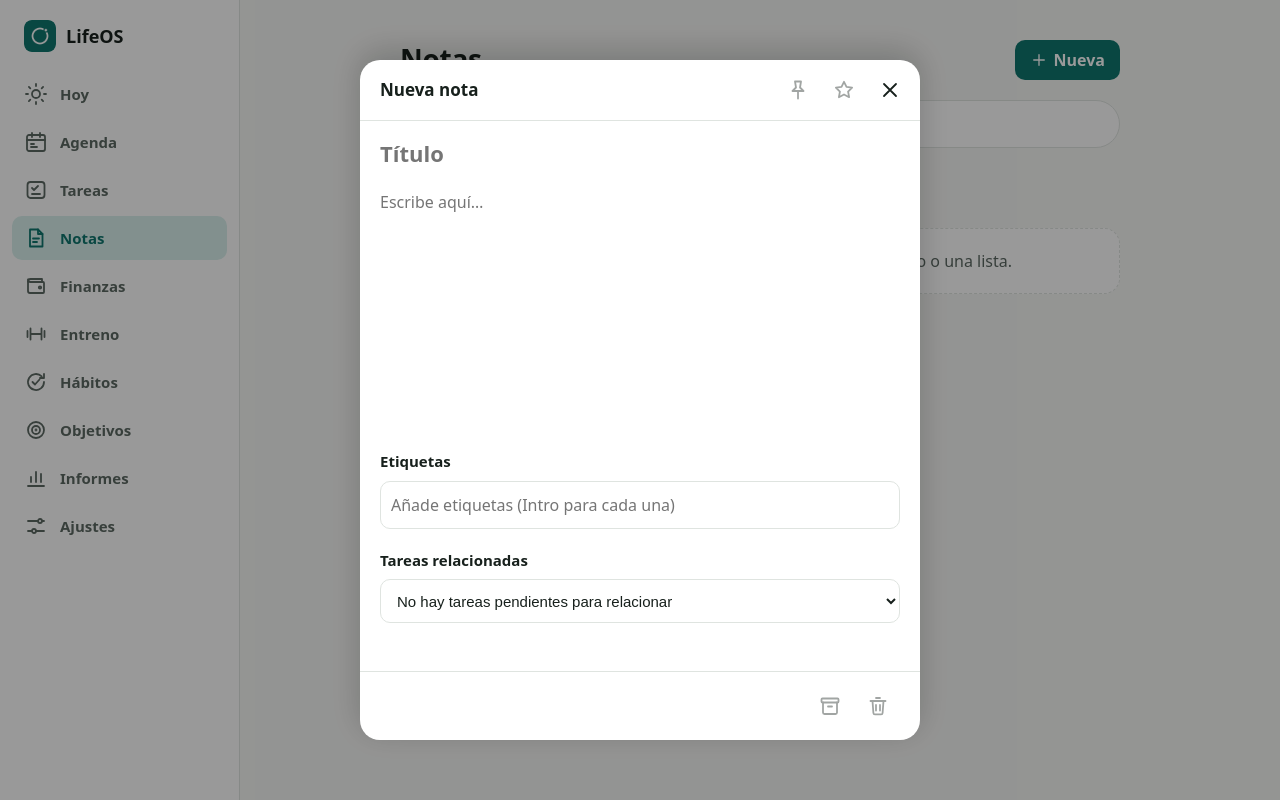
notas › no crea nada si la nota nueva se cierra vacía
Click the button named "Cerrar" at (890, 90), box left=868, top=68, right=912, bottom=112
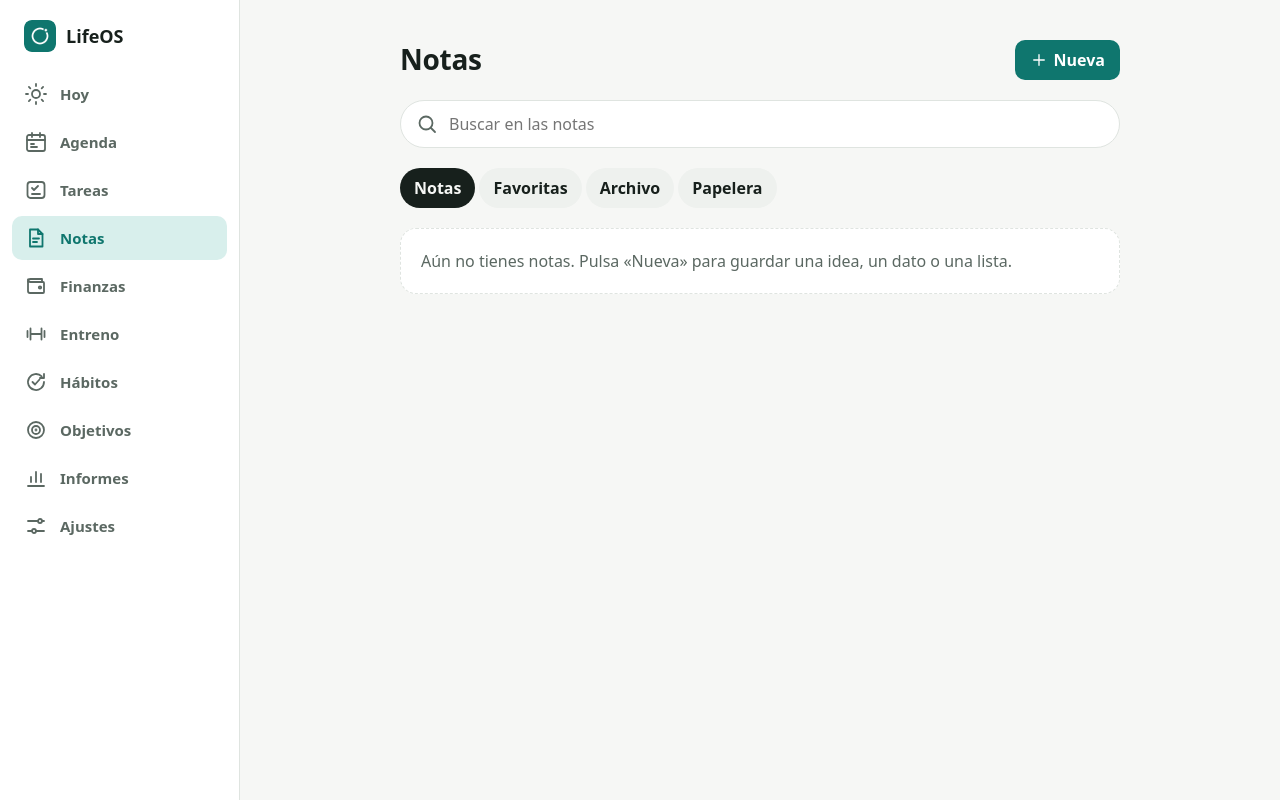
Check: the dialog is gone
